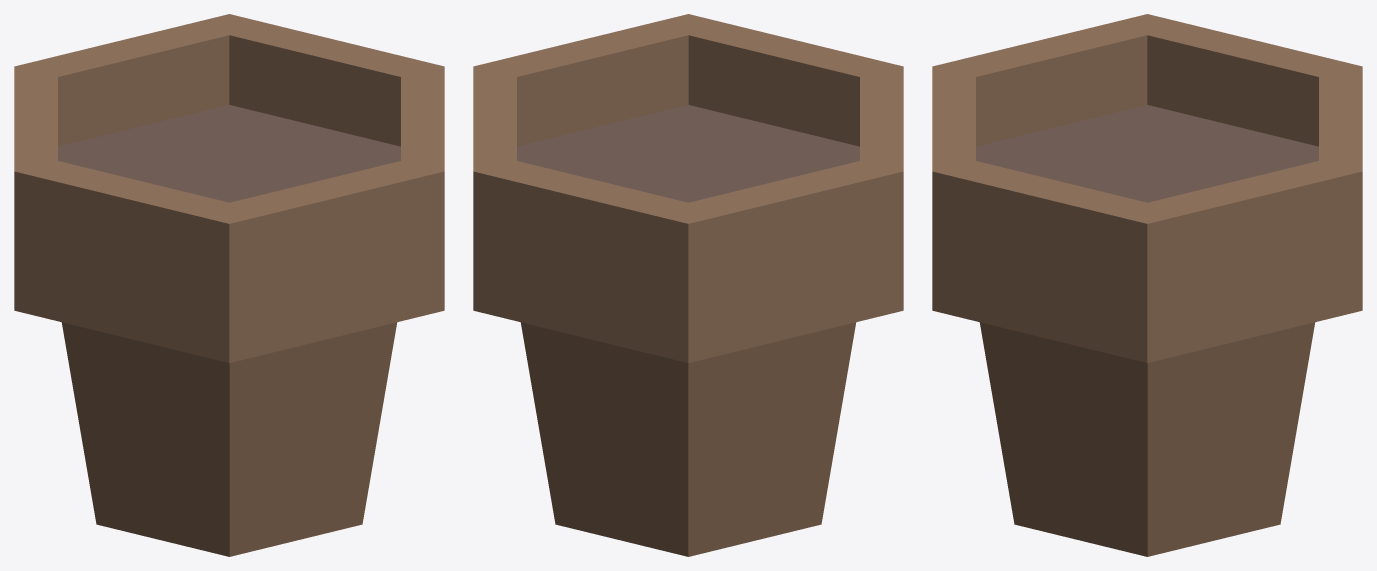
Rendered from pot_small.glb.
3 renders of one model, left to right at view 1: azimuth 30°, elevation 25°; view 2: azimuth 150°, elevation 25°; view 3: azimuth 270°, elevation 25°, orthographic.
Size of the model in its own units: 0.3234 by 0.268 by 0.2801.
